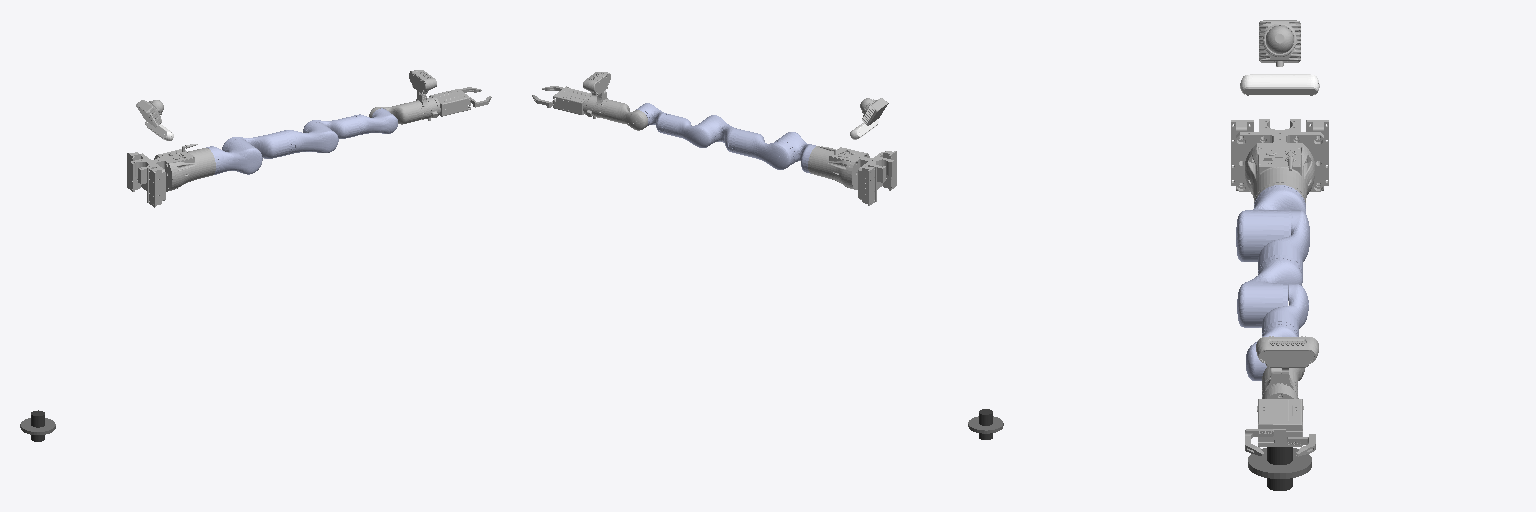
URDF robot description (robot_new):
<?xml version="1.0" encoding="utf-8"?>
<!-- This URDF was automatically created by SolidWorks to URDF Exporter! Originally created by Stephen Brawner (brawner@gmail.com) 
     Commit Version: 1.6.0-4-g7f85cfe  Build Version: 1.6.7995.38578
     For more information, please see http://wiki.ros.org/sw_urdf_exporter -->
<robot
  name="robot_new">
  <link
    name="base_link">
    <inertial>
      <origin
        xyz="0.0853234589153477 -0.00456620307834871 0.503883217563867"
        rpy="0 0 0" />
      <mass
        value="47.1368197210407" />
      <inertia
        ixx="0.635551727685094"
        ixy="-0.00010503393407522"
        ixz="0.000354701779896601"
        iyy="0.848345964222631"
        iyz="0.000209291555555924"
        izz="0.349942912225356" />
    </inertial>
    <visual>
      <origin
        xyz="0 0 0"
        rpy="0 0 0" />
      <geometry>
        <mesh
          filename="package://robot_new/meshes/base_link.STL" />
      </geometry>
      <material
        name="">
        <color
          rgba="0.752941176470588 0.752941176470588 0.752941176470588 1" />
      </material>
    </visual>
    <collision>
      <origin
        xyz="0 0 0"
        rpy="0 0 0" />
      <geometry>
        <mesh
          filename="package://robot_new/meshes/base_link.STL" />
      </geometry>
    </collision>
  </link>
  <link
    name="straight_link">
    <inertial>
      <origin
        xyz="0.0746328194453467 -4.43488212877874E-05 0.109341275839783"
        rpy="0 0 0" />
      <mass
        value="2.24720061536337" />
      <inertia
        ixx="0.00283535108172948"
        ixy="1.93813863242218E-06"
        ixz="5.7214225877549E-05"
        iyy="0.00308719366236633"
        iyz="-3.34734689718334E-06"
        izz="0.00306293765577832" />
    </inertial>
    <visual>
      <origin
        xyz="0 0 0"
        rpy="0 0 0" />
      <geometry>
        <mesh
          filename="package://robot_new/meshes/straight_link.STL" />
      </geometry>
      <material
        name="">
        <color
          rgba="0.752941176470588 0.752941176470588 0.752941176470588 1" />
      </material>
    </visual>
    <collision>
      <origin
        xyz="0 0 0"
        rpy="0 0 0" />
      <geometry>
        <mesh
          filename="package://robot_new/meshes/straight_link.STL" />
      </geometry>
    </collision>
  </link>
  <joint
    name="straight_joint"
    type="prismatic">
    <origin
      xyz="0.339 -4.2753E-05 0.8055"
      rpy="-3.1416 0 0" />
    <parent
      link="base_link" />
    <child
      link="straight_link" />
    <axis
      xyz="0 0 1" />
    <limit
      lower="0"
      upper="0.61"
      effort="100"
      velocity="1" />
  </joint>
  <link
    name="link_1">
    <inertial>
      <origin
        xyz="-0.0211077219241808 -2.09376991744392E-07 0.0728138741690489"
        rpy="0 0 0" />
      <mass
        value="0.59354182872541" />
      <inertia
        ixx="0.00118165897467299"
        ixy="5.10321085586566E-09"
        ixz="0.000211204348246055"
        iyy="0.00126611450759533"
        iyz="-6.41081922139871E-09"
        izz="0.000561319947778357" />
    </inertial>
    <visual>
      <origin
        xyz="0 0 0"
        rpy="0 0 0" />
      <geometry>
        <mesh
          filename="package://robot_new/meshes/link_1.STL" />
      </geometry>
      <material
        name="">
        <color
          rgba="0.792156862745098 0.819607843137255 0.933333333333333 1" />
      </material>
    </visual>
    <collision>
      <origin
        xyz="0 0 0"
        rpy="0 0 0" />
      <geometry>
        <mesh
          filename="package://robot_new/meshes/link_1.STL" />
      </geometry>
    </collision>
  </link>
  <joint
    name="joint_1"
    type="revolute">
    <origin
      xyz="0.224 -4.2753E-05 0.1078"
      rpy="-1.5708 0 -1.5708" />
    <parent
      link="straight_link" />
    <child
      link="link_1" />
    <axis
      xyz="0 0 1" />
    <limit
      lower="-3.1066"
      upper="3.1066"
      effort="100"
      velocity="3.14" />
  </joint>
  <link
    name="link_2">
    <inertial>
      <origin
        xyz="-0.0763141702598996 2.27534866947821E-07 0.00542609705306318"
        rpy="0 0 0" />
      <mass
        value="0.431790686304177" />
      <inertia
        ixx="0.000268635458527811"
        ixy="-6.44810839538401E-09"
        ixz="0.000118397937688269"
        iyy="0.000673387522476438"
        iyz="-2.68828176048139E-09"
        izz="0.000685020393264235" />
    </inertial>
    <visual>
      <origin
        xyz="0 0 0"
        rpy="0 0 0" />
      <geometry>
        <mesh
          filename="package://robot_new/meshes/link_2.STL" />
      </geometry>
      <material
        name="">
        <color
          rgba="0.792156862745098 0.819607843137255 0.933333333333333 1" />
      </material>
    </visual>
    <collision>
      <origin
        xyz="0 0 0"
        rpy="0 0 0" />
      <geometry>
        <mesh
          filename="package://robot_new/meshes/link_2.STL" />
      </geometry>
    </collision>
  </link>
  <joint
    name="joint_2"
    type="revolute">
    <origin
      xyz="0.016761 0 0.098"
      rpy="3.1416 1.5708 0" />
    <parent
      link="link_1" />
    <child
      link="link_2" />
    <axis
      xyz="0 0 1" />
    <limit
      lower="-2.2689"
      upper="2.2689"
      effort="100"
      velocity="3.14" />
  </joint>
  <link
    name="link_3">
    <inertial>
      <origin
        xyz="-0.023544066499335 -9.16186790766993E-07 0.0791524352306201"
        rpy="0 0 0" />
      <mass
        value="0.431326912120833" />
      <inertia
        ixx="0.000730369021915824"
        ixy="1.24164383295518E-10"
        ixz="0.000142625095265776"
        iyy="0.00079434805420184"
        iyz="1.3883730370504E-08"
        izz="0.000315062535140043" />
    </inertial>
    <visual>
      <origin
        xyz="0 0 0"
        rpy="0 0 0" />
      <geometry>
        <mesh
          filename="package://robot_new/meshes/link_3.STL" />
      </geometry>
      <material
        name="">
        <color
          rgba="0.792156862745098 0.819607843137255 0.933333333333333 1" />
      </material>
    </visual>
    <collision>
      <origin
        xyz="0 0 0"
        rpy="0 0 0" />
      <geometry>
        <mesh
          filename="package://robot_new/meshes/link_3.STL" />
      </geometry>
    </collision>
  </link>
  <joint
    name="joint_3"
    type="revolute">
    <origin
      xyz="-0.1495 0 0.016461"
      rpy="3.1416 1.5708 0" />
    <parent
      link="link_2" />
    <child
      link="link_3" />
    <axis
      xyz="0 0 1" />
    <limit
      lower="-3.1066"
      upper="3.1066"
      effort="100"
      velocity="3.9269" />
  </joint>
  <link
    name="link_4">
    <inertial>
      <origin
        xyz="-0.0596780855569812 2.86494557621975E-06 0.00268788894619743"
        rpy="0 0 0" />
      <mass
        value="0.289209424925076" />
      <inertia
        ixx="0.000127708566575012"
        ixy="-1.41305559904305E-08"
        ixz="5.25240138321317E-05"
        iyy="0.000311675427914977"
        iyz="1.68679182602617E-08"
        izz="0.000316894234133134" />
    </inertial>
    <visual>
      <origin
        xyz="0 0 0"
        rpy="0 0 0" />
      <geometry>
        <mesh
          filename="package://robot_new/meshes/link_4.STL" />
      </geometry>
      <material
        name="">
        <color
          rgba="0.792156862745098 0.819607843137255 0.933333333333333 1" />
      </material>
    </visual>
    <collision>
      <origin
        xyz="0 0 0"
        rpy="0 0 0" />
      <geometry>
        <mesh
          filename="package://robot_new/meshes/link_4.STL" />
      </geometry>
    </collision>
  </link>
  <joint
    name="joint_4"
    type="revolute">
    <origin
      xyz="0.013236 0 0.1065"
      rpy="3.1416 1.5708 0" />
    <parent
      link="link_3" />
    <child
      link="link_4" />
    <axis
      xyz="0 0 1" />
    <limit
      lower="-2.3561"
      upper="2.3561"
      effort="100"
      velocity="3.9269" />
  </joint>
  <link
    name="link_5">
    <inertial>
      <origin
        xyz="-0.0180437595528539 -1.94456354907224E-07 0.0629618376646066"
        rpy="0 0 0" />
      <mass
        value="0.239430995354712" />
      <inertia
        ixx="0.000262735522974815"
        ixy="2.15085313089612E-09"
        ixz="4.42407905618087E-05"
        iyy="0.000285949764526288"
        iyz="-1.40228122024329E-09"
        izz="0.000119899055725703" />
    </inertial>
    <visual>
      <origin
        xyz="0 0 0"
        rpy="0 0 0" />
      <geometry>
        <mesh
          filename="package://robot_new/meshes/link_5.STL" />
      </geometry>
      <material
        name="">
        <color
          rgba="0.792156862745098 0.819607843137255 0.933333333333333 1" />
      </material>
    </visual>
    <collision>
      <origin
        xyz="0 0 0"
        rpy="0 0 0" />
      <geometry>
        <mesh
          filename="package://robot_new/meshes/link_5.STL" />
      </geometry>
    </collision>
  </link>
  <joint
    name="joint_5"
    type="revolute">
    <origin
      xyz="-0.1255 0 0.013236"
      rpy="3.1416 1.5708 0" />
    <parent
      link="link_4" />
    <child
      link="link_5" />
    <axis
      xyz="0 0 1" />
    <limit
      lower="-3.1066"
      upper="3.1066"
      effort="100"
      velocity="3.9269" />
  </joint>
  <link
    name="link_6">
    <inertial>
      <origin
        xyz="-0.095840467190546 -0.0152609198569158 0.00614372307936539"
        rpy="0 0 0" />
      <mass
        value="0.383184467488494" />
      <inertia
        ixx="0.000216926681826416"
        ixy="-5.67223960720067E-07"
        ixz="7.76415085290278E-05"
        iyy="0.000434250962716829"
        iyz="1.51758886264702E-07"
        izz="0.000384347182584428" />
    </inertial>
    <visual>
      <origin
        xyz="0 0 0"
        rpy="0 0 0" />
      <geometry>
        <mesh
          filename="package://robot_new/meshes/link_6.STL" />
      </geometry>
      <material
        name="">
        <color
          rgba="0.752941176470588 0.752941176470588 0.752941176470588 1" />
      </material>
    </visual>
    <collision>
      <origin
        xyz="0 0 0"
        rpy="0 0 0" />
      <geometry>
        <mesh
          filename="package://robot_new/meshes/link_6.STL" />
      </geometry>
    </collision>
  </link>
  <joint
    name="joint_6"
    type="revolute">
    <origin
      xyz="0.012436 0 0.0845"
      rpy="3.1416 1.5708 0" />
    <parent
      link="link_5" />
    <child
      link="link_6" />
    <axis
      xyz="0 0 1" />
    <limit
      lower="-2.234"
      upper="2.234"
      effort="100"
      velocity="3.9269" />
  </joint>
  <link
    name="link_7">
    <inertial>
      <origin
        xyz="-1.35762028020681E-05 1.48608693573138E-07 -0.124596038342826"
        rpy="0 0 0" />
      <mass
        value="0.31320675098834" />
      <inertia
        ixx="0.000142245807794029"
        ixy="1.31858237931339E-07"
        ixz="6.69198299801094E-09"
        iyy="0.000212259267946983"
        iyz="-1.98796545042765E-10"
        izz="0.000159717668940879" />
    </inertial>
    <visual>
      <origin
        xyz="0 0 0"
        rpy="0 0 0" />
      <geometry>
        <mesh
          filename="package://robot_new/meshes/link_7.STL" />
      </geometry>
      <material
        name="">
        <color
          rgba="0.752941176470588 0.752941176470588 0.752941176470588 1" />
      </material>
    </visual>
    <collision>
      <origin
        xyz="0 0 0"
        rpy="0 0 0" />
      <geometry>
        <mesh
          filename="package://robot_new/meshes/link_7.STL" />
      </geometry>
    </collision>
  </link>
  <joint
    name="joint_7"
    type="revolute">
    <origin
      xyz="-0.3378 0 0.012436"
      rpy="3.1416 1.5708 0" />
    <parent
      link="link_6" />
    <child
      link="link_7" />
    <axis
      xyz="0 0 1" />
    <limit
      lower="-6.2831"
      upper="6.2831"
      effort="100"
      velocity="3.9269" />
  </joint>
  <link
    name="left_grep">
    <inertial>
      <origin
        xyz="0.010214 -0.01811 -0.0073438"
        rpy="0 0 0" />
      <mass
        value="0.024886" />
      <inertia
        ixx="1.3386E-05"
        ixy="9.3508E-07"
        ixz="3.8551E-07"
        iyy="3.3329E-06"
        iyz="-2.3204E-07"
        izz="1.0902E-05" />
    </inertial>
    <visual>
      <origin
        xyz="0 0 0"
        rpy="0 0 0" />
      <geometry>
        <mesh
          filename="package://robot_new/meshes/left_grep.STL" />
      </geometry>
      <material
        name="">
        <color
          rgba="0.69804 0.69804 0.69804 1" />
      </material>
    </visual>
    <collision>
      <origin
        xyz="0 0 0"
        rpy="0 0 0" />
      <geometry>
        <mesh
          filename="package://robot_new/meshes/left_grep.STL" />
      </geometry>
    </collision>
  </link>
  <joint
    name="left_grep_joint"
    type="prismatic">
    <origin
      xyz="0.034976 -0.012071 -0.06"
      rpy="-1.5708 0.00013059 1.5688" />
    <parent
      link="link_7" />
    <child
      link="left_grep" />
    <axis
      xyz="0 0 1" />
    <limit
      lower="0"
      upper="0.0251"
      effort="100"
      velocity="1" />
  </joint>
  <link
    name="right_grep">
    <inertial>
      <origin
        xyz="-0.010219 0.018107 -0.0073438"
        rpy="0 0 0" />
      <mass
        value="0.024886" />
      <inertia
        ixx="1.3385E-05"
        ixy="9.377E-07"
        ixz="-3.8557E-07"
        iyy="3.3334E-06"
        iyz="2.3194E-07"
        izz="1.0902E-05" />
    </inertial>
    <visual>
      <origin
        xyz="0 0 0"
        rpy="0 0 0" />
      <geometry>
        <mesh
          filename="package://robot_new/meshes/right_grep.STL" />
      </geometry>
      <material
        name="">
        <color
          rgba="0.69804 0.69804 0.69804 1" />
      </material>
    </visual>
    <collision>
      <origin
        xyz="0 0 0"
        rpy="0 0 0" />
      <geometry>
        <mesh
          filename="package://robot_new/meshes/right_grep.STL" />
      </geometry>
    </collision>
  </link>
  <joint
    name="right_grep_joint"
    type="prismatic">
    <origin
      xyz="-0.034976 0.012071 -0.06"
      rpy="1.5708 0.00013059 1.5688" />
    <parent
      link="link_7" />
    <child
      link="right_grep" />
    <axis
      xyz="0 0 1" />
    <limit
      lower="0"
      upper="0.0251"
      effort="100"
      velocity="1" />
    <mimic
      joint="left_grep_joint"
      multiplier="1"
      offset="0" />
  </joint>
  <link
    name="link_lidar">
    <inertial>
      <origin
        xyz="6.38339882758077E-06 -0.000199541152032745 -0.0249683004607621"
        rpy="0 0 0" />
      <mass
        value="0.141887048350943" />
      <inertia
        ixx="4.5077096441704E-05"
        ixy="5.69938837077826E-09"
        ixz="4.47484390142435E-10"
        iyy="4.17977158474638E-05"
        iyz="3.05345044853344E-07"
        izz="6.8799600356182E-05" />
    </inertial>
    <visual>
      <origin
        xyz="0 0 0"
        rpy="0 0 0" />
      <geometry>
        <mesh
          filename="package://robot_new/meshes/link_lidar.STL" />
      </geometry>
      <material
        name="">
        <color
          rgba="0.752941176470588 0.752941176470588 0.752941176470588 1" />
      </material>
    </visual>
    <collision>
      <origin
        xyz="0 0 0"
        rpy="0 0 0" />
      <geometry>
        <mesh
          filename="package://robot_new/meshes/link_lidar.STL" />
      </geometry>
    </collision>
  </link>
  <joint
    name="lidar_joint"
    type="fixed">
    <origin
      xyz="0.3929 -0.00025975 0.91141"
      rpy="1.0472 0 1.5708" />
    <parent
      link="base_link" />
    <child
      link="link_lidar" />
    <axis
      xyz="0 0 0" />
  </joint>
  <link
    name="link_camrea">
    <inertial>
      <origin
        xyz="0 0 0"
        rpy="0 0 0" />
      <mass
        value="0" />
      <inertia
        ixx="0"
        ixy="0"
        ixz="0"
        iyy="0"
        iyz="0"
        izz="0" />
    </inertial>
    <visual>
      <origin
        xyz="0 0 0"
        rpy="0 0 0" />
      <geometry>
        <mesh
          filename="package://robot_new/meshes/link_camrea.STL" />
      </geometry>
      <material
        name="">
        <color
          rgba="1 1 1 1" />
      </material>
    </visual>
    <collision>
      <origin
        xyz="0 0 0"
        rpy="0 0 0" />
      <geometry>
        <mesh
          filename="package://robot_new/meshes/link_camrea.STL" />
      </geometry>
    </collision>
  </link>
  <joint
    name="camrea_joint"
    type="fixed">
    <origin
      xyz="0.40929 0.00048444 0.82847"
      rpy="2.1102 0 1.5708" />
    <parent
      link="base_link" />
    <child
      link="link_camrea" />
    <axis
      xyz="0 0 0" />
    <limit
      lower="0"
      upper="0"
      effort="0"
      velocity="0" />
  </joint>
  <link name="front_wheel_link">
    <inertial>
      <origin xyz="0 0 0" rpy="0 0 0" />
      <mass value="0.5" />
      <inertia
        ixx="0.01"
        ixy="0"
        ixz="0"
        iyy="0.01"
        iyz="0"
        izz="0.01" />
    </inertial>
    <visual>
      <origin xyz="0 0 0" rpy="0 0 0" />
      <geometry>
        <cylinder radius="0.05" length="0.01" />
      </geometry>
      <material name="">
        <color rgba="0.5 0.5 0.5 1" />
      </material>
    </visual>
    <collision>
      <origin xyz="0 0 0" rpy="0 0 0" />
      <geometry>
        <cylinder radius="0.05" length="0.01" />
      </geometry>
    </collision>
  </link>
  <joint name="front_wheel_joint" type="revolute">
    <origin xyz="0.0 0.0 0.0" rpy="0 0 0" />
    <parent link="base_link" />
    <child link="front_wheel_link" />
    <axis xyz="0 1 0" />
    <limit lower="-6.2832" upper="6.2832" effort="50.0" velocity="2.0" />
  </joint>
  <link name="rear_wheel_link">
    <inertial>
      <origin xyz="0 0 0" rpy="0 0 0" />
      <mass value="0.5" />
      <inertia
        ixx="0.01"
        ixy="0"
        ixz="0"
        iyy="0.01"
        iyz="0"
        izz="0.01" />
    </inertial>
    <visual>
      <origin xyz="0 0 0" rpy="0 0 0" />
      <geometry>
        <cylinder radius="0.05" length="0.01" />
      </geometry>
      <material name="">
        <color rgba="0.5 0.5 0.5 1" />
      </material>
    </visual>
    <collision>
      <origin xyz="0 0 0" rpy="0 0 0" />
      <geometry>
        <cylinder radius="0.05" length="0.01" />
      </geometry>
    </collision>
  </link>
  <joint name="rear_wheel_joint" type="revolute">
    <origin xyz="0.0 0.0 0.0" rpy="0 0 0" />
    <parent link="base_link" />
    <child link="rear_wheel_link" />
    <axis xyz="0 1 0" />
    <limit lower="0" upper="6.2832" effort="50.0" velocity="2.0" />
  </joint>
  <link name="front_clamp_wheel_link">
    <inertial>
      <origin xyz="0 0 0" rpy="0 0 0" />
      <mass value="0.5" />
      <inertia
        ixx="0.01"
        ixy="0"
        ixz="0"
        iyy="0.01"
        iyz="0"
        izz="0.01" />
    </inertial>
    <visual>
      <origin xyz="0 0 0" rpy="0 0 0" />
      <geometry>
        <cylinder radius="0.02" length="0.08" />
      </geometry>
      <material name="">
        <color rgba="0.3 0.3 0.3 1" />
      </material>
    </visual>
    <collision>
      <origin xyz="0 0 0" rpy="0 0 0" />
      <geometry>
        <cylinder radius="0.02" length="0.08" />
      </geometry>
    </collision>
  </link>
  <joint name="front_clamp_wheel_joint" type="revolute">
    <origin xyz="0.0 0.0 0.0" rpy="0 0 0" />
    <parent link="base_link" />
    <child link="front_clamp_wheel_link" />
    <axis xyz="0 1 0" />
    <limit lower="0" upper="6.2832" effort="30.0" velocity="1.5" />
  </joint>
  <link name="rear_clamp_wheel_link">
    <inertial>
      <origin xyz="0 0 0" rpy="0 0 0" />
      <mass value="0.2" />
      <inertia
        ixx="0.002"
        ixy="0"
        ixz="0"
        iyy="0.002"
        iyz="0"
        izz="0.002" />
    </inertial>
    <visual>
      <origin xyz="0 0 0" rpy="0 0 0" />
      <geometry>
        <cylinder radius="0.02" length="0.08" />
      </geometry>
      <material name="">
        <color rgba="0.3 0.3 0.3 1" />
      </material>
    </visual>
    <collision>
      <origin xyz="0 0 0" rpy="0 0 0" />
      <geometry>
        <cylinder radius="0.02" length="0.08" />
      </geometry>
    </collision>
  </link>
  <joint name="rear_clamp_wheel_joint" type="revolute">
    <origin xyz="0.0 0.0 0.0" rpy="0 0 0" />
    <parent link="base_link" />
    <child link="rear_clamp_wheel_link" />
    <axis xyz="0 1 0" />
    <limit lower="0" upper="6.2832" effort="30.0" velocity="1.5" />
  </joint>
</robot>

--- Facts derived from the render (not from the file) ---
3 views of the same robot in one strip: view 1: azimuth 30°, elevation 25°; view 2: azimuth 150°, elevation 25°; view 3: azimuth 270°, elevation 25° (orthographic).
Robot: robot_new — 17 links, 16 joints (11 revolute, 3 prismatic, 2 fixed); root link base_link; default pose: every joint at zero.
Links seen in each view (by area): view 1: straight_link, link_6, link_1, link_3, link_2, link_7, link_5, link_4; view 2: straight_link, link_6, link_2, link_4, link_7, link_1, link_3; view 3: straight_link, link_1, link_3, link_6, link_7, link_lidar, link_camrea, link_2, link_4, front_wheel_link, link_5, front_clamp_wheel_link.
Link boxes in pixels (left/top/right/bottom): straight_link: left=127, top=144, right=215, bottom=207; link_6: left=369, top=70, right=437, bottom=124; link_1: left=206, top=139, right=262, bottom=174; link_3: left=284, top=122, right=338, bottom=153; link_2: left=222, top=131, right=292, bottom=158; link_7: left=429, top=89, right=470, bottom=116; link_5: left=356, top=108, right=397, bottom=134; link_4: left=303, top=115, right=361, bottom=138; straight_link: left=808, top=146, right=896, bottom=205; link_6: left=583, top=72, right=647, bottom=130; link_2: left=731, top=129, right=793, bottom=169; link_4: left=662, top=114, right=713, bottom=147; link_7: left=553, top=87, right=593, bottom=114; link_1: left=775, top=132, right=815, bottom=173; link_3: left=699, top=115, right=738, bottom=152; straight_link: left=1231, top=119, right=1328, bottom=202; link_1: left=1236, top=185, right=1305, bottom=261; link_3: left=1237, top=257, right=1302, bottom=327; link_6: left=1256, top=336, right=1318, bottom=411; link_7: left=1258, top=391, right=1302, bottom=446; link_lidar: left=1259, top=20, right=1300, bottom=66; link_camrea: left=1240, top=74, right=1319, bottom=95; link_2: left=1258, top=210, right=1309, bottom=276; link_4: left=1262, top=284, right=1308, bottom=336; front_wheel_link: left=1248, top=448, right=1311, bottom=478; link_5: left=1246, top=324, right=1297, bottom=380; front_clamp_wheel_link: left=1267, top=447, right=1292, bottom=490.
Bounding box of the posed robot: 1.52 × 0.154 × 0.9696 m (x, y, z).
12 mesh visuals loaded from 13 distinct referenced files (12 binary STL); not drawn: 1 (reference not matched to a file when rendering).
